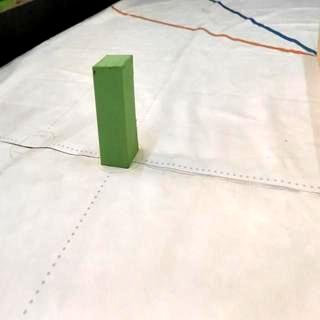greenbox: (92, 55, 140, 168)
